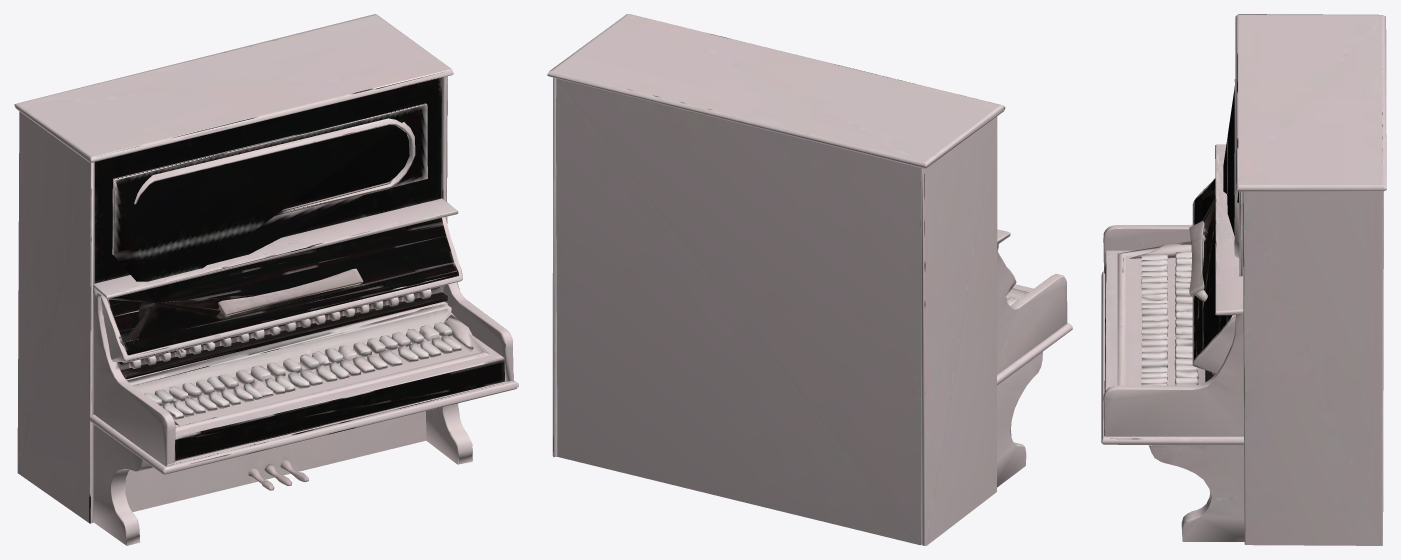
File: street-piano.glb
The picture shows the model from 3 angles, left to right: view 1: azimuth 30°, elevation 25°; view 2: azimuth 150°, elevation 25°; view 3: azimuth 270°, elevation 25°; orthographic projection. The views are drawn at different scales.
Parts seen in each view (by area): view 1: geometry_0; view 2: geometry_0; view 3: geometry_0.
Part boxes in pixels (x1,y1,x2,y2): geometry_0: [14, 14, 518, 545]; geometry_0: [547, 14, 1072, 545]; geometry_0: [1101, 14, 1386, 545].
Size of the model in its own units: 1 by 0.9777 by 0.6992.
Materials: 1 (1 with a texture image).
